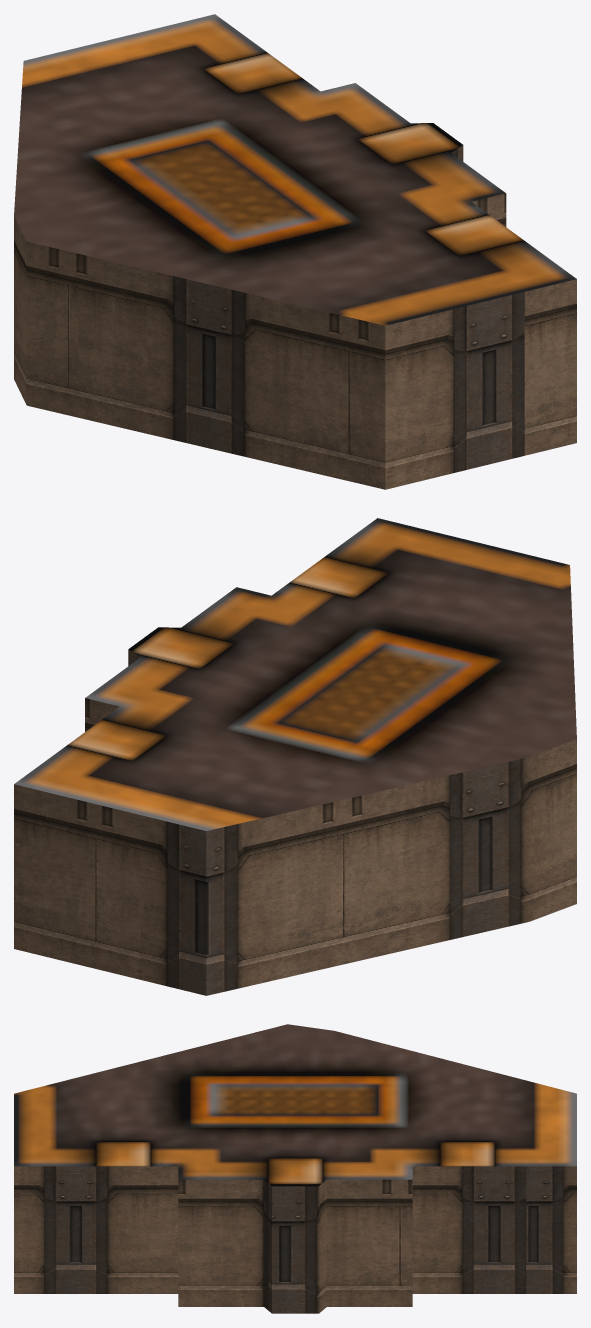
Rendered from heavy_roof48.glb.
3 renders of one model, top to bottom at view 1: azimuth 30°, elevation 25°; view 2: azimuth 150°, elevation 25°; view 3: azimuth 270°, elevation 25°, orthographic. The views are drawn at different scales.
Parts seen in each view (by area): view 1: buildings/saxarba/heavy/heavy_roof48; view 2: buildings/saxarba/heavy/heavy_roof48; view 3: buildings/saxarba/heavy/heavy_roof48.
Boxes of the visible parts, x1=… form: buildings/saxarba/heavy/heavy_roof48: x1=14, y1=14, x2=576, y2=489; buildings/saxarba/heavy/heavy_roof48: x1=14, y1=518, x2=576, y2=995; buildings/saxarba/heavy/heavy_roof48: x1=14, y1=1024, x2=576, y2=1313.
Size of the model in its own units: 49 by 18 by 72.
